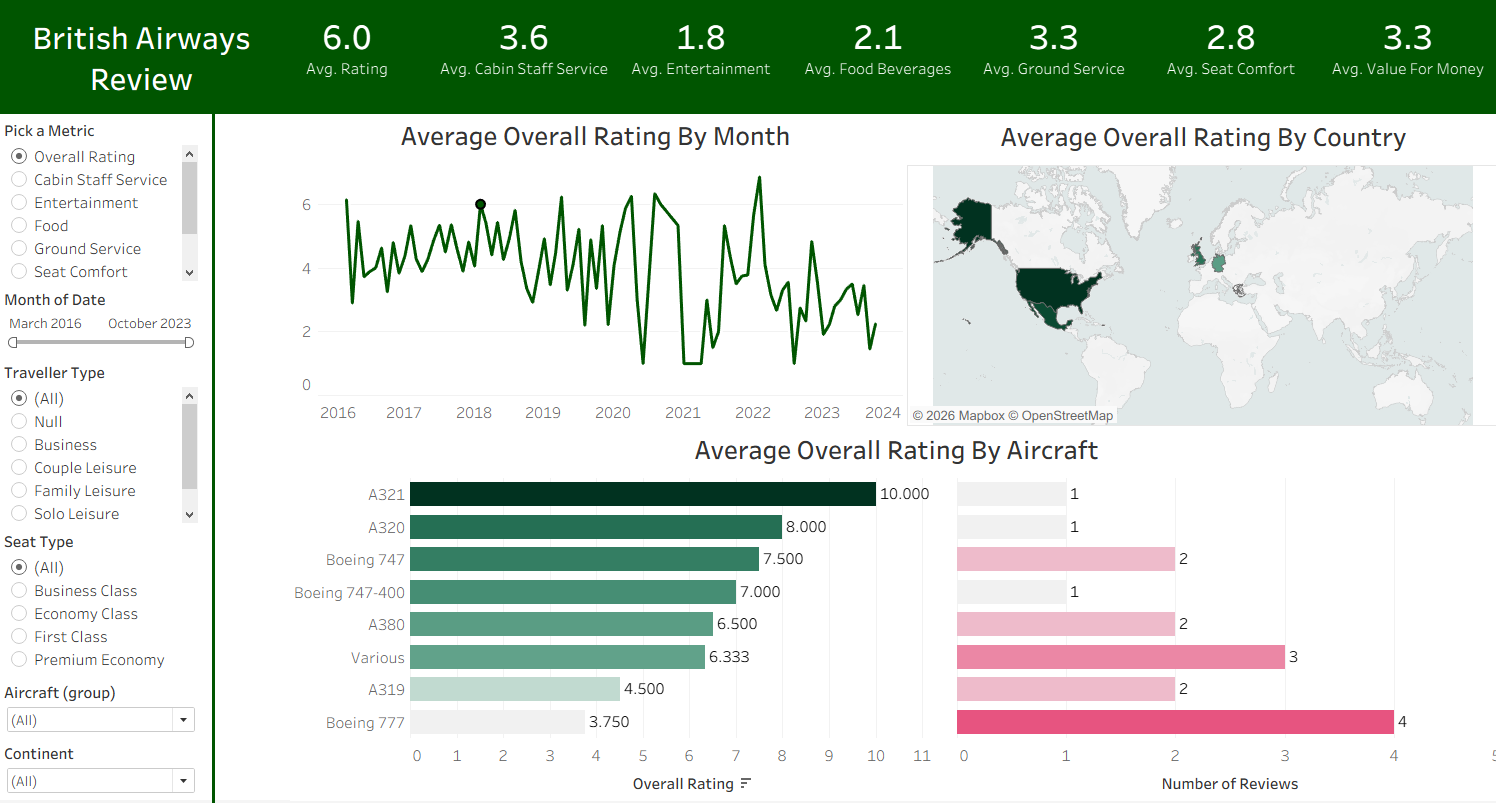

This screenshot's page, from the dashboard's own definition file:
{"tool":"tableau","page":{"name":"Dashboard 1","canvas":[1500,900],"ordinal":0},"visuals":[{"type":"text","box":[0,0,283,128.6]},{"type":"worksheet","title":"Summary","mark":"Automatic","box":[259,0,1237,128.6]},{"type":"worksheet","title":"Month","mark":"Automatic","rows":["Calculation_1325736174026752"],"cols":["date"],"box":[288,128,615,350]},{"type":"worksheet","title":"Map","mark":"Automatic","box":[907,129,593,350]},{"type":"parameter","param":"[Parameters].[Parameter 1]","box":[0,131,202,197]},{"type":"filter","title":"Map","param":"[federated.03r43fh02tdp3318cxsip0tgbcte].[tmn:date:qk]","box":[0,328,202,73]},{"type":"filter","title":"Map","param":"[federated.03r43fh02tdp3318cxsip0tgbcte].[none:traveller_type:nk]","box":[0,401,202,174]},{"type":"worksheet","title":"Aircraft","mark":"Automatic","cols":["Calculation_1325736174026752","ba_reviews.csv_66AF942D57ED4ECCAE8D9E7F428D541A"],"box":[290,482,1213,420]},{"type":"filter","title":"Map","param":"[federated.03r43fh02tdp3318cxsip0tgbcte].[none:seat_type:nk]","box":[0,575,202,151]},{"type":"filter","title":"Map","param":"[federated.03r43fh02tdp3318cxsip0tgbcte].[Aircraft (group)]","box":[0,726,202,61]},{"type":"filter","title":"Map","param":"[federated.03r43fh02tdp3318cxsip0tgbcte].[none:Continent:nk]","box":[0,787,202,61]}]}

Visuals, with their boxes on the page's 1500x900 design canvas (x1, y1, x2, y2). These are canvas units, not pixel positions in the 1496x803 screenshot, which may show the page scaled, cropped or inside an application window:
text: <box>0,0,283,129</box>
"Summary" worksheet: <box>259,0,1496,129</box>
"Month" worksheet: <box>288,128,903,478</box>
"Map" worksheet: <box>907,129,1500,479</box>
parameter: <box>0,131,202,328</box>
"Map" filter: <box>0,328,202,401</box>
"Map" filter: <box>0,401,202,575</box>
"Aircraft" worksheet: <box>290,482,1503,902</box>
"Map" filter: <box>0,575,202,726</box>
"Map" filter: <box>0,726,202,787</box>
"Map" filter: <box>0,787,202,848</box>
